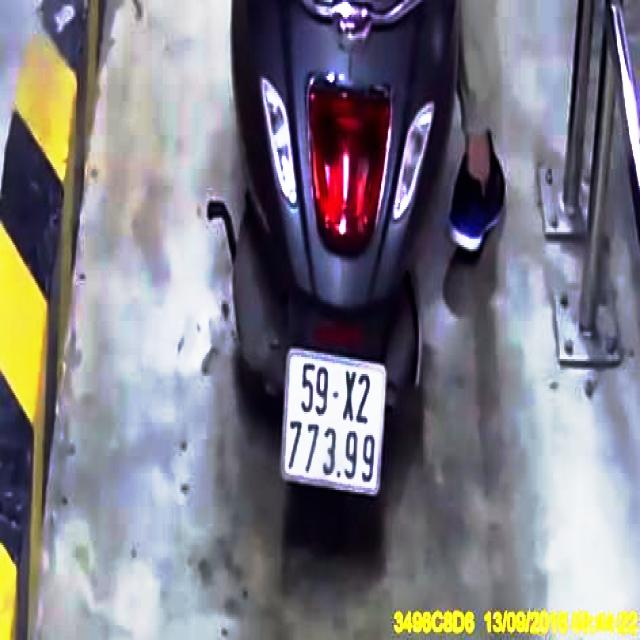license_plate: (282, 350, 386, 497)
